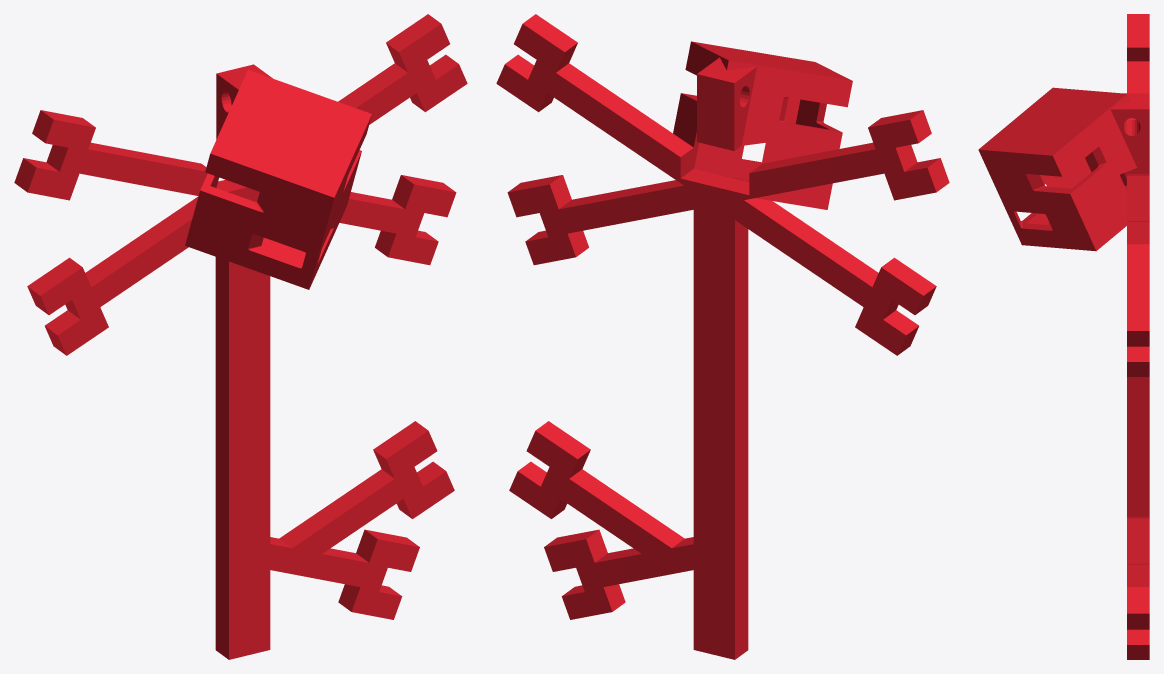
The model's file is tinker.obj.
3 renders of one model, left to right at view 1: azimuth 30°, elevation 25°; view 2: azimuth 150°, elevation 25°; view 3: azimuth 270°, elevation 25°, orthographic. The views are drawn at different scales.
Visible parts, largest first — view 1: obj_0; view 2: obj_0; view 3: obj_0.
Part boxes in pixels (left/top/right/bottom): obj_0: left=14, top=14, right=467, bottom=659; obj_0: left=496, top=14, right=949, bottom=659; obj_0: left=978, top=14, right=1149, bottom=659.
Bounding box in the file's own units: 76.88 × 97.75 × 30.08.
